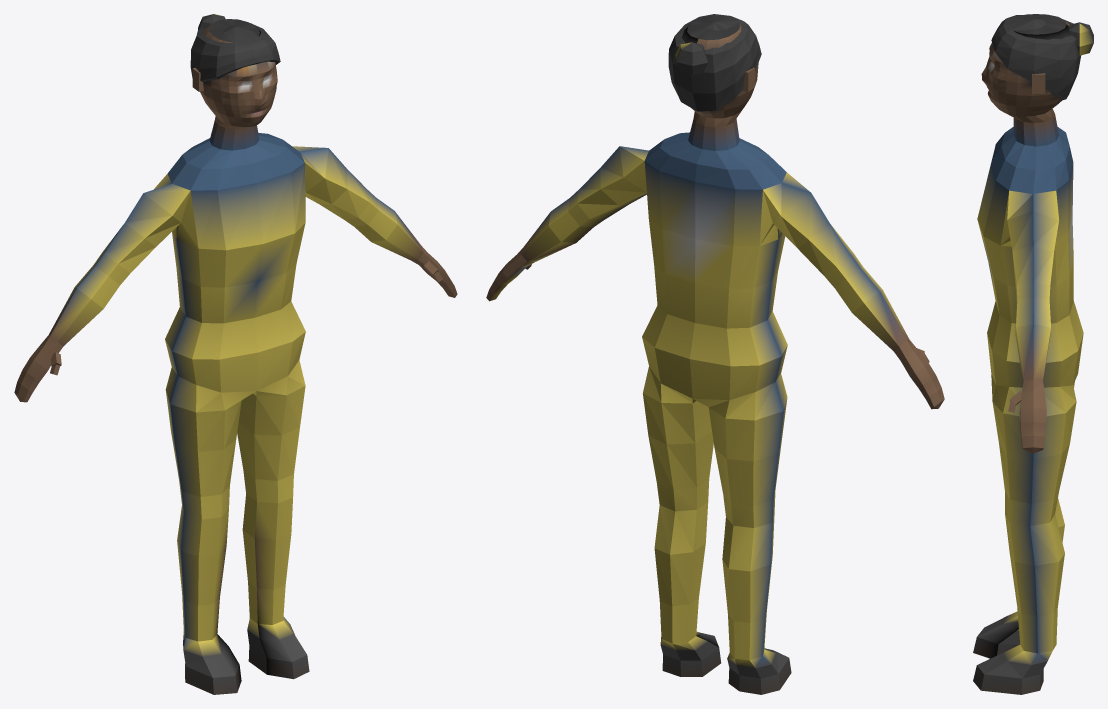
The model's file is char__pessoa__piloto_m06.glb.
3 renders of one model, left to right at view 1: azimuth 30°, elevation 25°; view 2: azimuth 150°, elevation 25°; view 3: azimuth 270°, elevation 25°, orthographic. The views are drawn at different scales.
Visible parts, largest first — view 1: char__pessoa__piloto_m06; view 2: char__pessoa__piloto_m06; view 3: char__pessoa__piloto_m06.
Boxes of the visible parts, x1,y1,x2,y2 form: char__pessoa__piloto_m06: (14,14,457,694); char__pessoa__piloto_m06: (486,14,944,694); char__pessoa__piloto_m06: (973,14,1093,694).
Size of the model in its own units: 1.16 by 1.63 by 0.2738.
